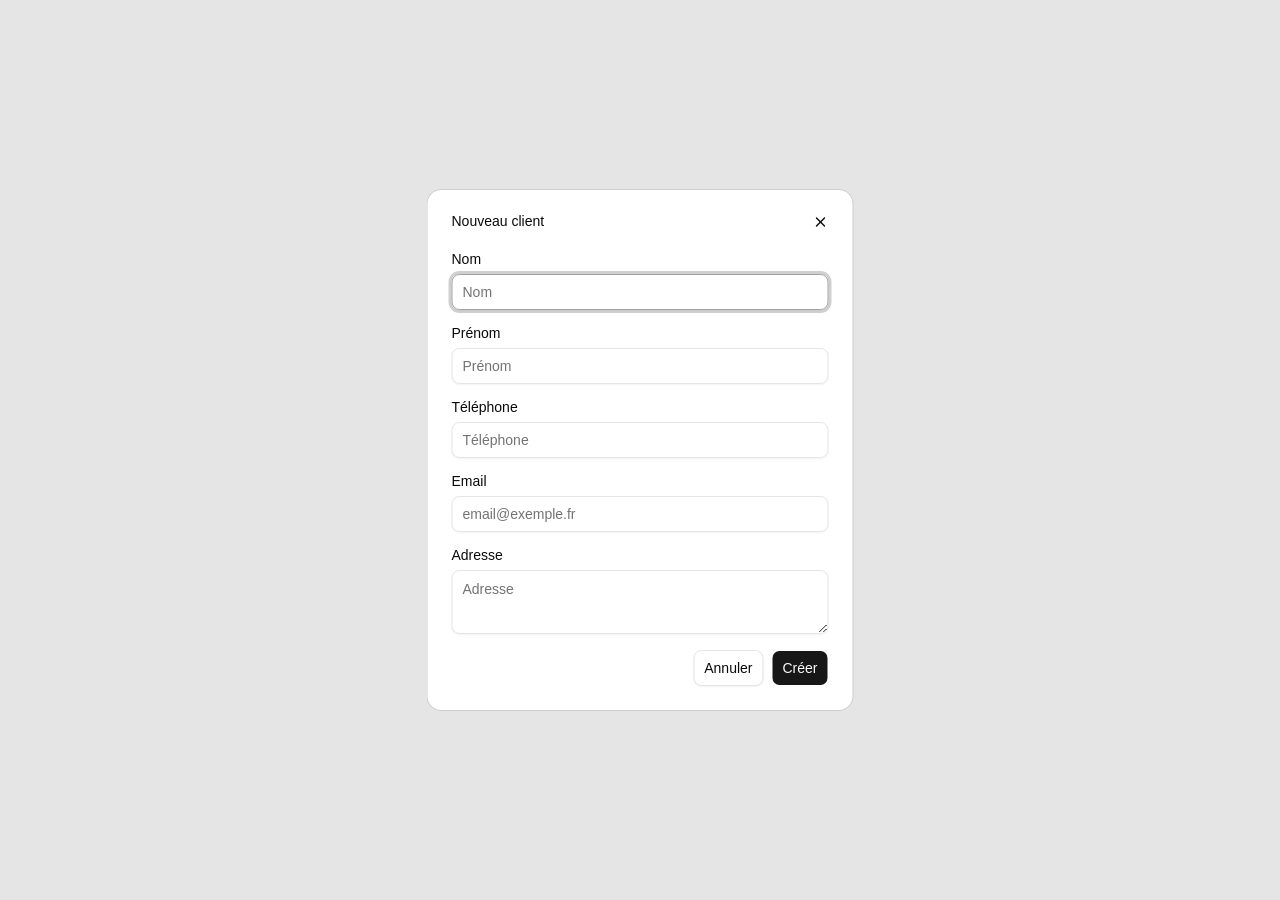
Test case: CreateClientDialog › validation — Nom obligatoire
Step 1. Click the button "Créer" → coordinates (800, 668), box [772,650,828,686]
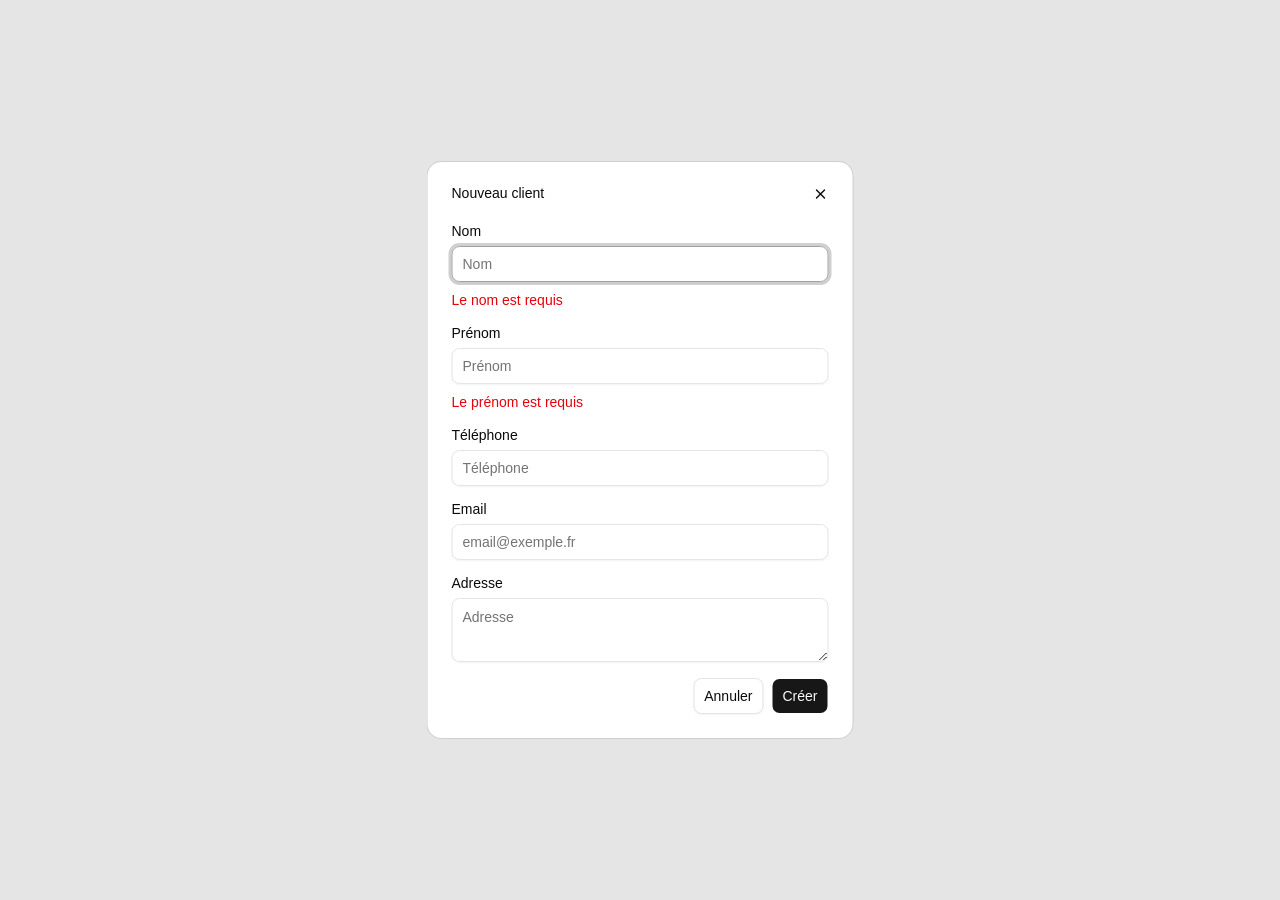
Check: the text "Le nom est requis" is shown, box [452,292,563,308]
